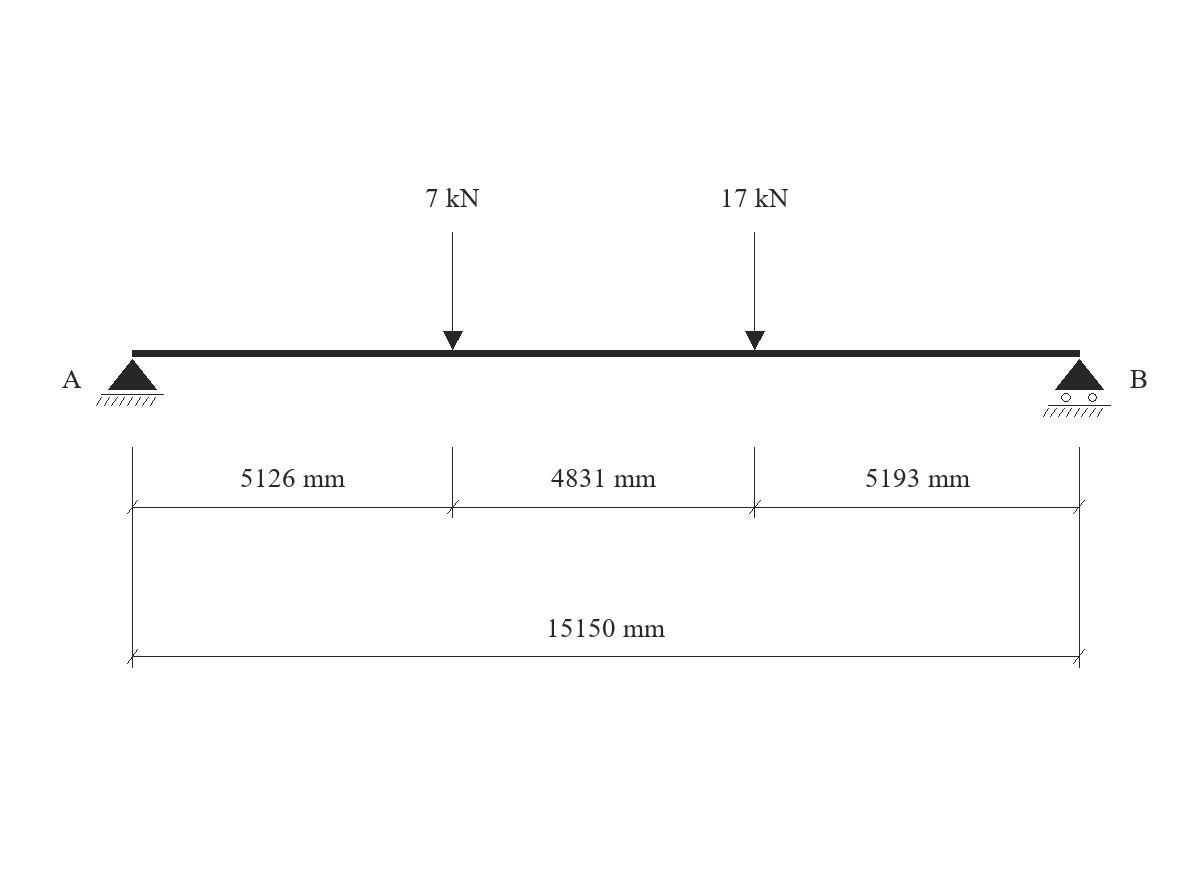pin_support: (96, 359, 164, 406)
point_load: (443, 232, 463, 350), (745, 232, 765, 350)
roller_support: (1043, 359, 1111, 417)
